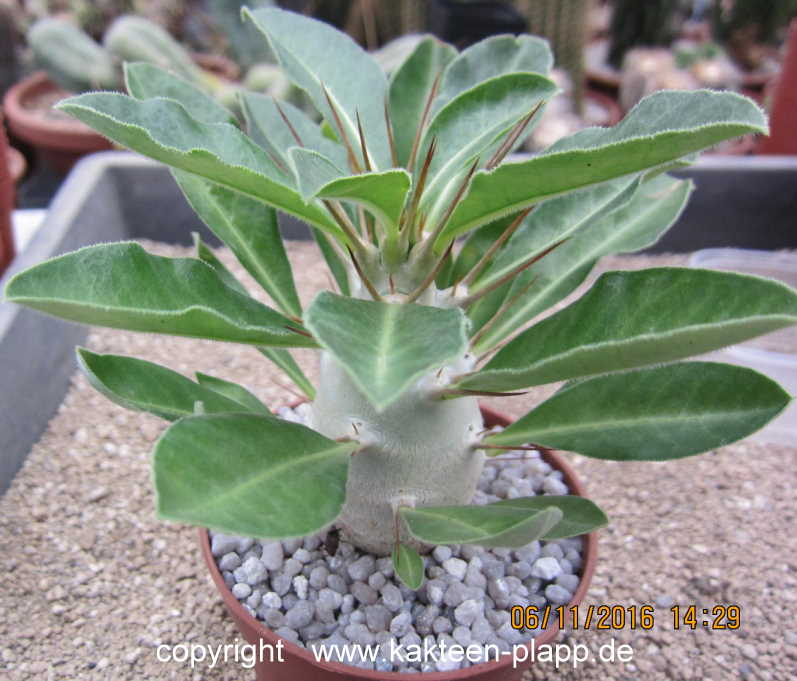Pachypodium saundersii: (84, 53, 784, 618)
